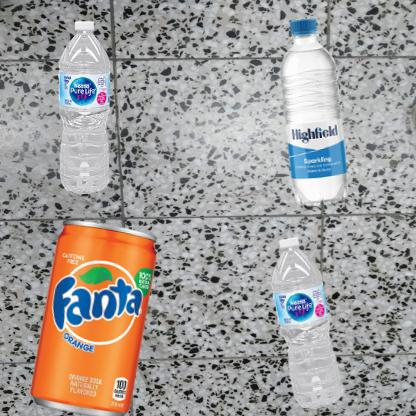botella: (213, 10, 414, 223), (213, 213, 405, 416), (10, 10, 159, 203)
lata: (10, 213, 188, 416)
